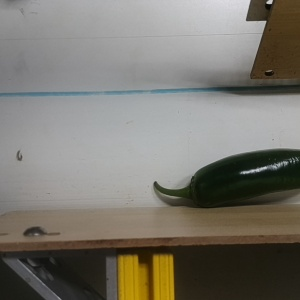Cut Point: (181, 169, 213, 207)
